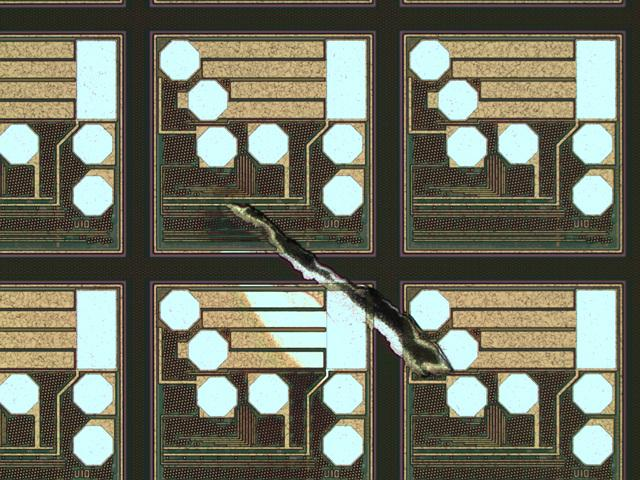BLOCK ETCH: (213, 197, 457, 393)
